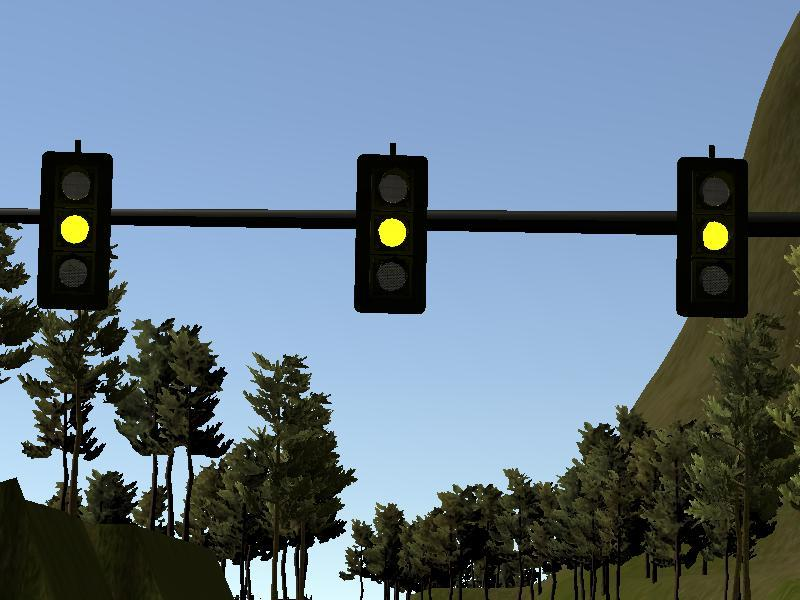Yellow: (677, 157, 748, 317), (40, 153, 112, 308), (357, 154, 427, 313)
